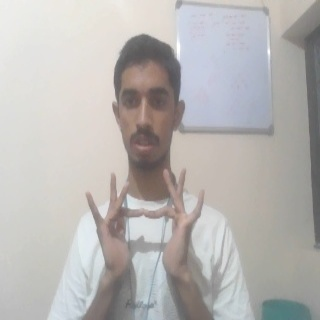Face: (108, 31, 186, 170)
Internet: (82, 167, 209, 288)
